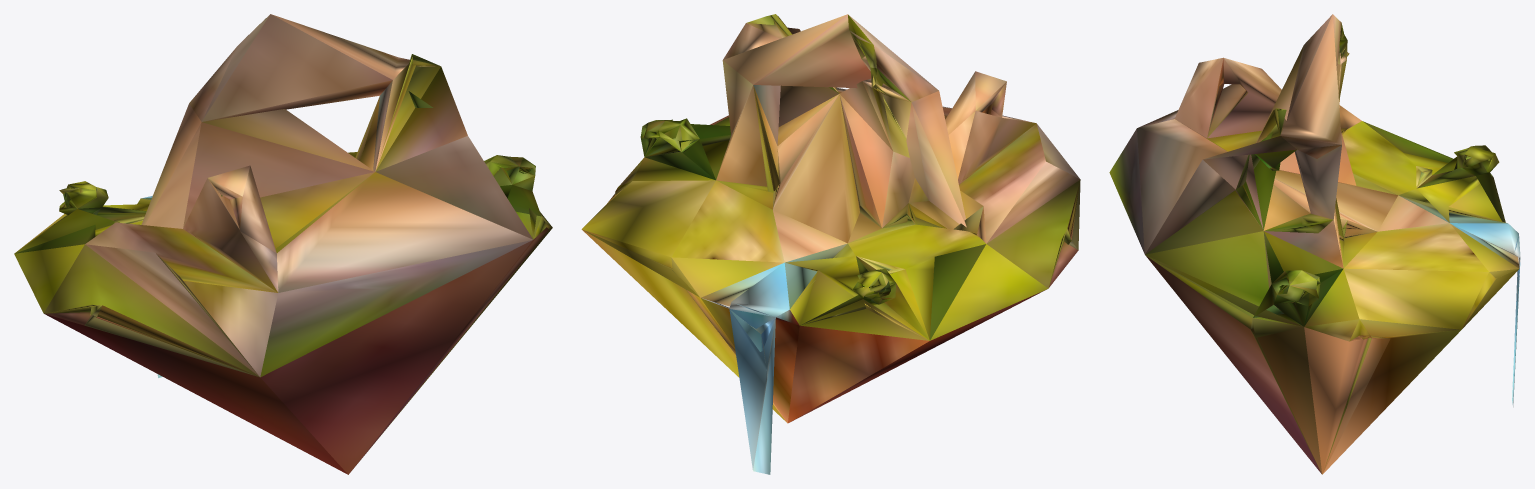
Rendered from ilha-lod.glb.
The picture shows the model from 3 angles, left to right: view 1: azimuth 30°, elevation 25°; view 2: azimuth 150°, elevation 25°; view 3: azimuth 270°, elevation 25°; orthographic projection. The views are drawn at different scales.
Visible parts, largest first — view 1: ilha; view 2: ilha; view 3: ilha.
Part boxes in pixels (<box>): ilha: <box>14,14,552,474</box>; ilha: <box>581,14,1080,474</box>; ilha: <box>1109,14,1520,474</box>.
Bounding box in the file's own units: 0.7605 × 0.7326 × 0.6361.
1 material, 1 textured.
